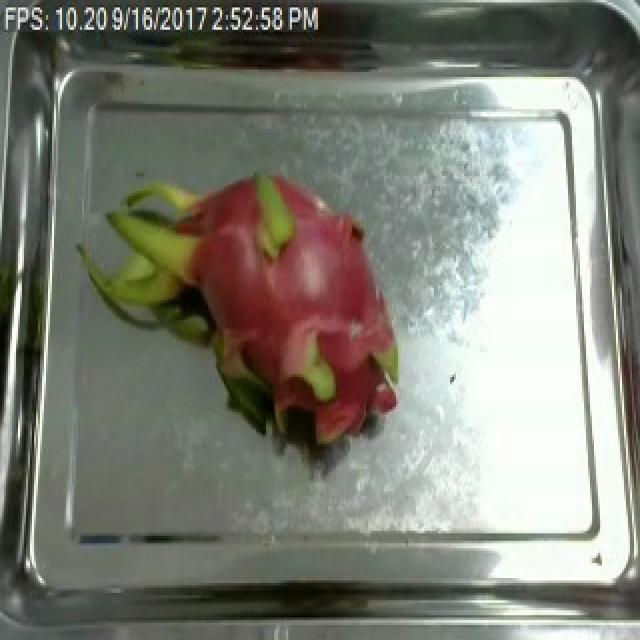fruit: (68, 141, 410, 479)
